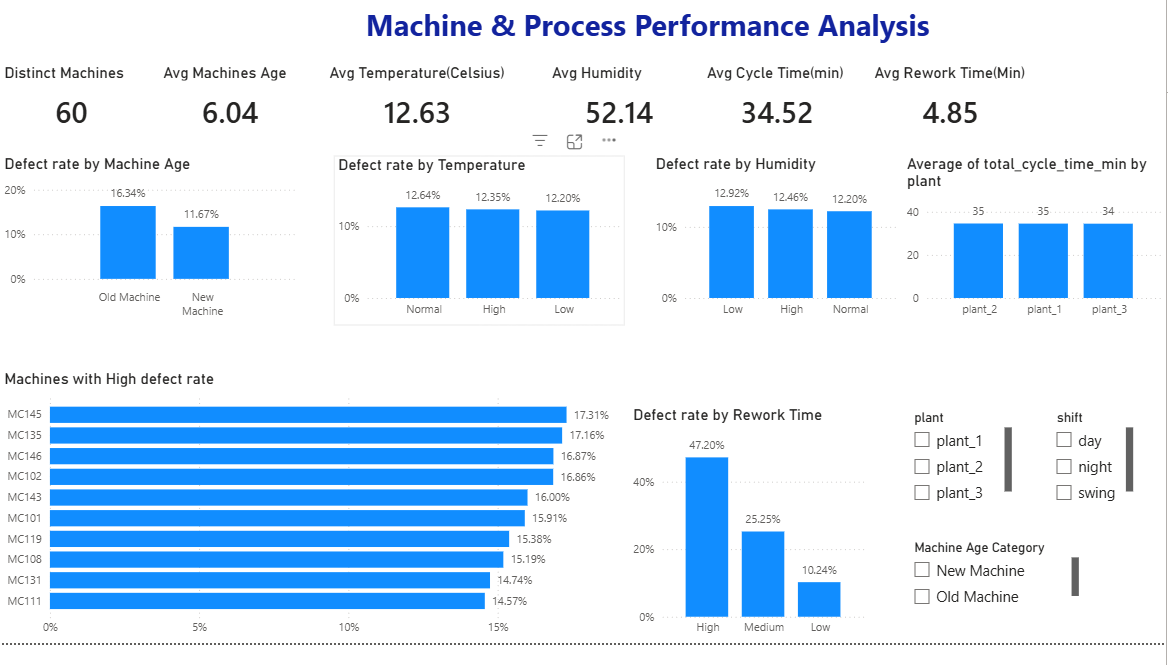

This screenshot's page, from the dashboard's own definition file:
{"tool":"powerbi","page":{"name":"Machine and Process Performance","canvas":[1280,720],"ordinal":2},"visuals":[{"type":"cardVisual","title":"Distinct Machines","fields":{"Data":["Count(manufacturing_quality_decisions_10000.machine_id)"]},"box":[0,82.3,183.9,85.1],"z":0},{"type":"cardVisual","title":"Avg Machines Age","fields":{"Data":["Avg(manufacturing_quality_decisions_10000.machine_age_yrs)"]},"box":[174.3,82.3,182.5,85.1],"z":1000},{"type":"cardVisual","title":"Avg Temperature(C)","fields":{"Data":["Avg(manufacturing_quality_decisions_10000.temp_c)"]},"box":[366.4,82.3,203.1,85.1],"z":2000},{"type":"cardVisual","title":"Avg Humidity(%)","fields":{"Data":["Avg(manufacturing_quality_decisions_10000.humidity_pct)"]},"box":[569.5,82.3,175.6,85.1],"z":3000},{"type":"textbox","box":[396.6,13.7,636.7,56.3],"z":4000},{"type":"cardVisual","title":"Avg Cycle Time(min)","fields":{"Data":["Avg(manufacturing_quality_decisions_10000.total_cycle_time_min)"]},"box":[734.1,82.3,178.4,85.1],"z":5000},{"type":"cardVisual","title":"Avg Rework Time(min)","fields":{"Data":["Avg(manufacturing_quality_decisions_10000.rework_time_min)"]},"box":[938.6,82.3,177,85.1],"z":6000},{"type":"clusteredColumnChart","title":"Defect rate by Machine Age ","fields":{"Category":["manufacturing_quality_decisions_10000.Machine Age Category"],"Y":["manufacturing_quality_decisions_10000.defect_rate"]},"box":[8.2,182.5,332.1,188],"z":7000},{"type":"clusteredColumnChart","title":"Defect rate by Temperature ","fields":{"Category":["manufacturing_quality_decisions_10000.Temperature Category"],"Y":["manufacturing_quality_decisions_10000.defect_rate"]},"box":[366.4,183.9,319.7,186.6],"z":8000},{"type":"clusteredColumnChart","title":"Defect rate by Humidity ","fields":{"Y":["manufacturing_quality_decisions_10000.defect_rate"],"Category":["manufacturing_quality_decisions_10000.Humid Category"]},"box":[714.9,182.5,275.8,188],"z":9000},{"type":"clusteredColumnChart","title":"Defect rate by Rework Time","fields":{"Y":["manufacturing_quality_decisions_10000.defect_rate"],"Category":["manufacturing_quality_decisions_10000.Rework Time Category"]},"box":[963.3,391.1,312.9,178.4],"z":10000},{"type":"barChart","title":"Top 10 Machines by Defect Rate","fields":{"Category":["manufacturing_quality_decisions_10000.machine_id"],"Y":["manufacturing_quality_decisions_10000.defect_rate"]},"box":[0,392.5,569.5,328],"z":11000},{"type":"clusteredColumnChart","title":"Average Cycle Time by Plant","fields":{"Category":["manufacturing_quality_decisions_10000.plant"],"Y":["Avg(manufacturing_quality_decisions_10000.total_cycle_time_min)"]},"box":[990.7,182.5,289.5,188],"z":12000},{"type":"slicer","fields":{"Values":["manufacturing_quality_decisions_10000.plant"]},"box":[1136.2,581.8,129,63.1],"z":13000},{"type":"slicer","fields":{"Values":["manufacturing_quality_decisions_10000.shift"]},"box":[990.7,581.8,129,60.4],"z":14000},{"type":"slicer","fields":{"Values":["manufacturing_quality_decisions_10000.Machine Age Category"]},"box":[990.7,653.2,172.9,67.2],"z":15000},{"type":"clusteredBarChart","fields":{"Y":["manufacturing_quality_decisions_10000.defect_rate"],"Category":["manufacturing_quality_decisions_10000.operator_id"]},"box":[569.5,391.1,393.8,329.3],"z":15001}]}

Visuals, with their boxes in screenshot pixels (x1, y1, x2, y2), scaled from the page's 1280x720 canvas onto the 1168x665 screenshot:
"Distinct Machines" cardVisual: locate(0, 76, 168, 155)
"Avg Machines Age" cardVisual: locate(159, 76, 326, 155)
"Avg Temperature(C)" cardVisual: locate(334, 76, 520, 155)
"Avg Humidity(%)" cardVisual: locate(520, 76, 680, 155)
textbox: locate(362, 13, 943, 65)
"Avg Cycle Time(min)" cardVisual: locate(670, 76, 833, 155)
"Avg Rework Time(min)" cardVisual: locate(856, 76, 1018, 155)
"Defect rate by Machine Age " clusteredColumnChart: locate(7, 169, 311, 342)
"Defect rate by Temperature " clusteredColumnChart: locate(334, 170, 626, 342)
"Defect rate by Humidity " clusteredColumnChart: locate(652, 169, 904, 342)
"Defect rate by Rework Time" clusteredColumnChart: locate(879, 361, 1165, 526)
"Top 10 Machines by Defect Rate" barChart: locate(0, 363, 520, 664)
"Average Cycle Time by Plant" clusteredColumnChart: locate(904, 169, 1167, 342)
slicer - manufacturing_quality_decisions_10000.plant: locate(1037, 537, 1154, 596)
slicer - manufacturing_quality_decisions_10000.shift: locate(904, 537, 1022, 593)
slicer - manufacturing_quality_decisions_10000.Machine Age Category: locate(904, 603, 1062, 664)
clusteredBarChart - manufacturing_quality_decisions_10000.defect_rate x manufacturing_quality_decisions_10000.operator_id: locate(520, 361, 879, 664)
